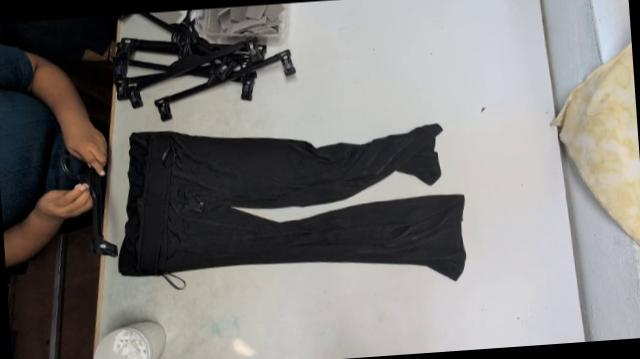new-garment: (118, 123, 465, 279)
